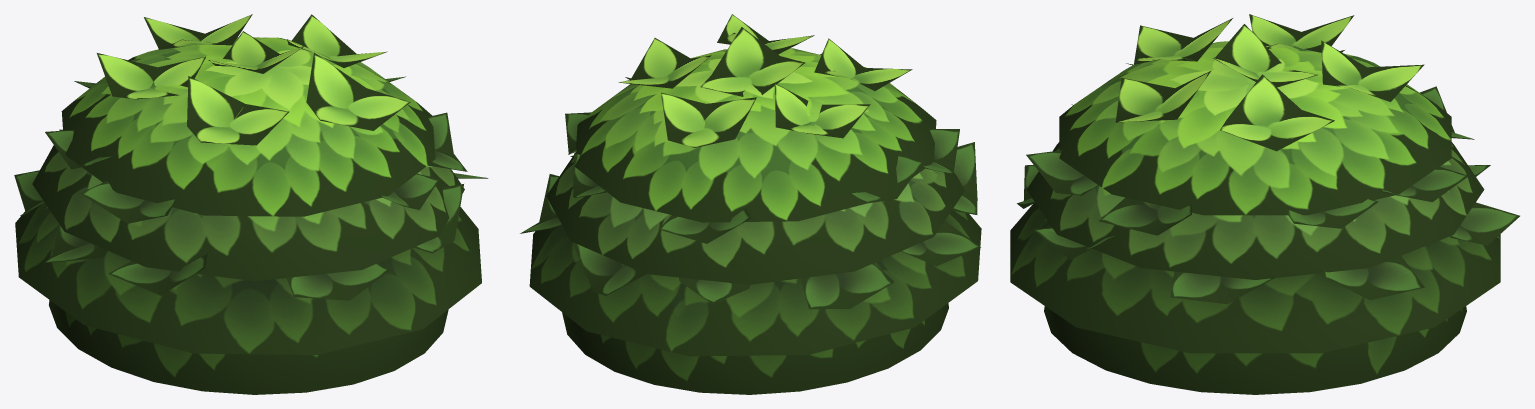
Rendered from Arbusto.glb.
3 renders of one model, left to right at view 1: azimuth 30°, elevation 25°; view 2: azimuth 150°, elevation 25°; view 3: azimuth 270°, elevation 25°, orthographic. The views are drawn at different scales.
Parts seen in each view (by area): view 1: stylized bush; view 2: stylized bush; view 3: stylized bush.
Part boxes in pixels (x1,y1,x2,y2): stylized bush: (14,14,488,394); stylized bush: (520,14,981,394); stylized bush: (1010,14,1519,394).
Bounding box in the file's own units: 1.51 × 0.9624 × 1.58.
1 material, 1 textured.
